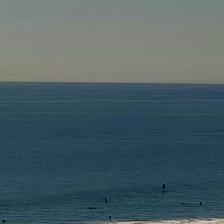surfer: (181, 202, 188, 205), (104, 197, 108, 202), (88, 207, 96, 209), (2, 219, 6, 223), (162, 184, 165, 189), (109, 215, 112, 218), (200, 202, 202, 205)
